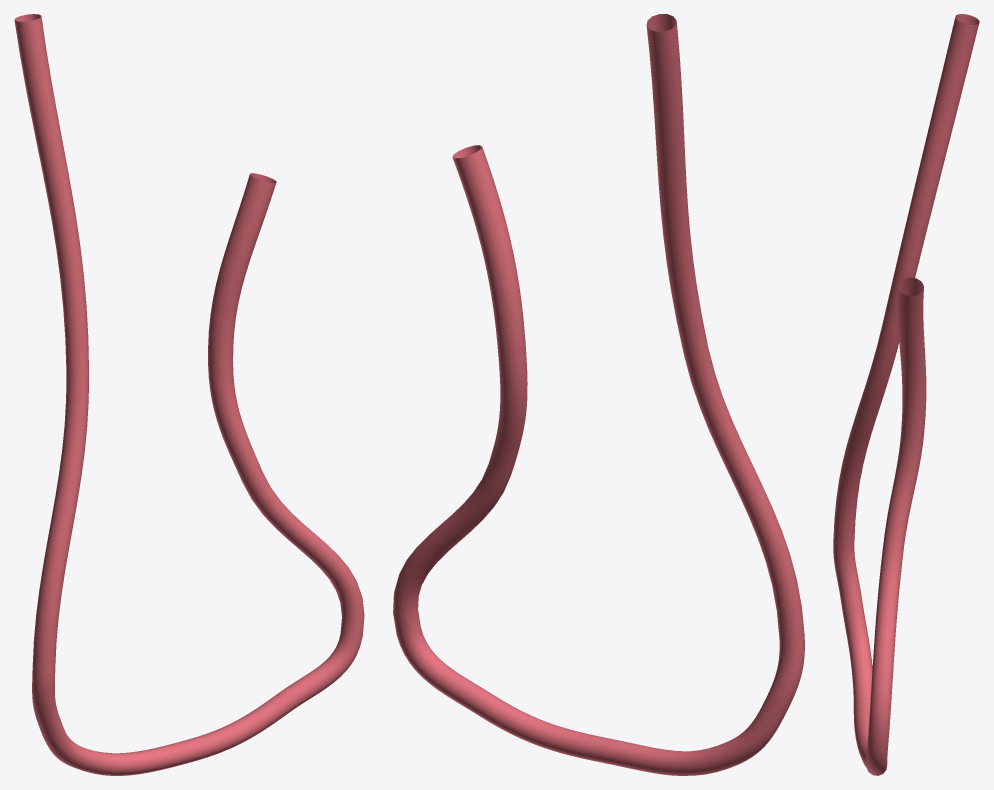
The picture shows the model from 3 angles, left to right: view 1: azimuth 30°, elevation 25°; view 2: azimuth 150°, elevation 25°; view 3: azimuth 270°, elevation 25°; orthographic projection. The views are drawn at different scales.
Visible parts, largest first — view 1: ZA_7c9f7c4e5a24def2; view 2: ZA_7c9f7c4e5a24def2; view 3: ZA_7c9f7c4e5a24def2.
Part boxes in pixels (x1,y1,x2,y2): ZA_7c9f7c4e5a24def2: (14, 14, 364, 775); ZA_7c9f7c4e5a24def2: (393, 14, 804, 775); ZA_7c9f7c4e5a24def2: (833, 14, 979, 775).
Size of the model in its own units: 0.0352 by 0.0708 by 0.0138.
